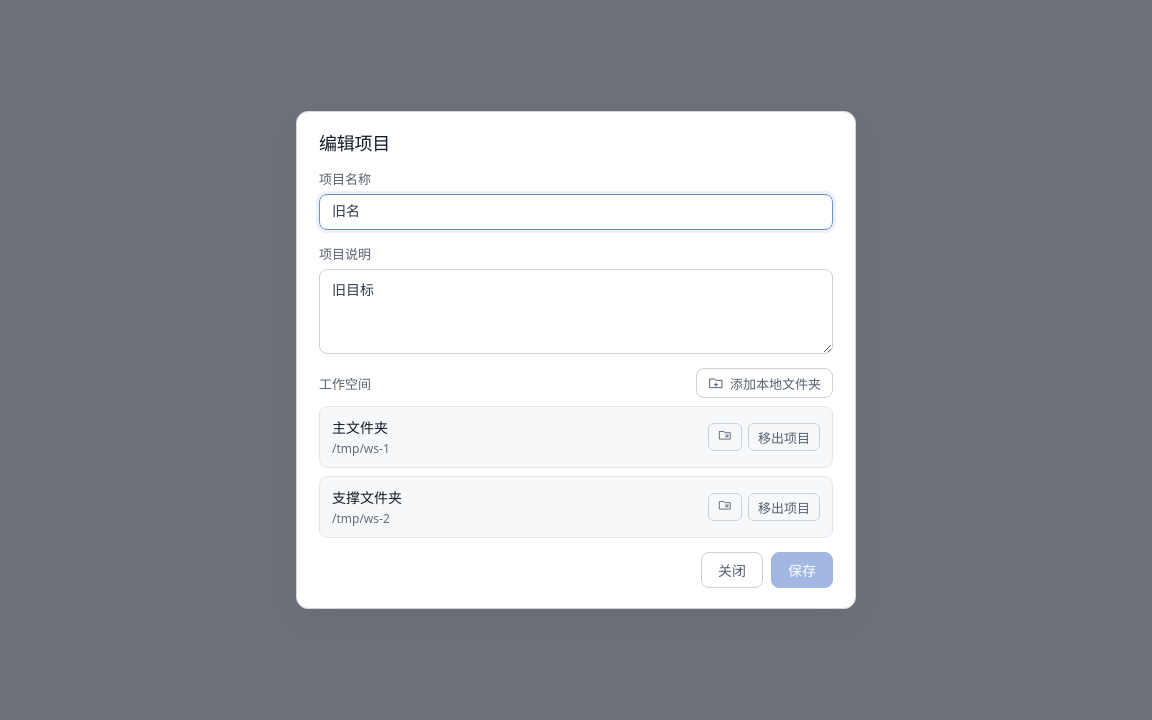
Test: 项目编辑 › 修订冲突时给出可操作的说明，而不是抛出原始错误码
Replace the text in the field labelled "项目名称" with "新名" at (576, 212), box [319,194,833,230]
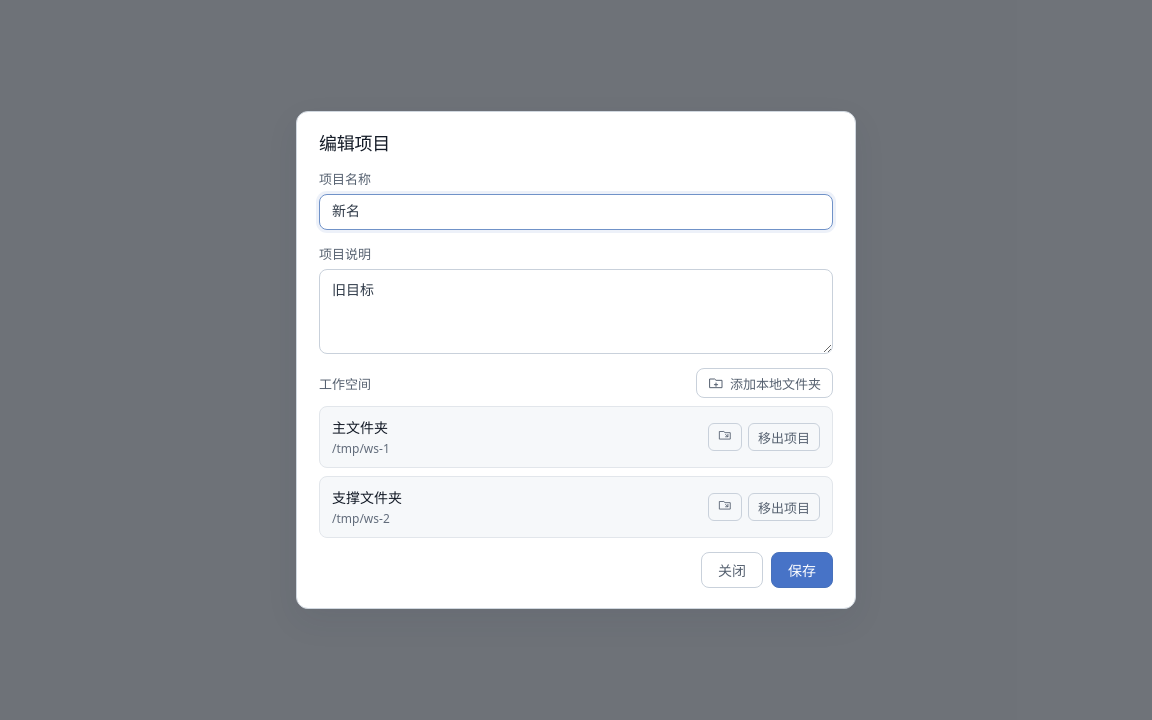
Click the button "保存" at (802, 570), box [771,552,833,588]
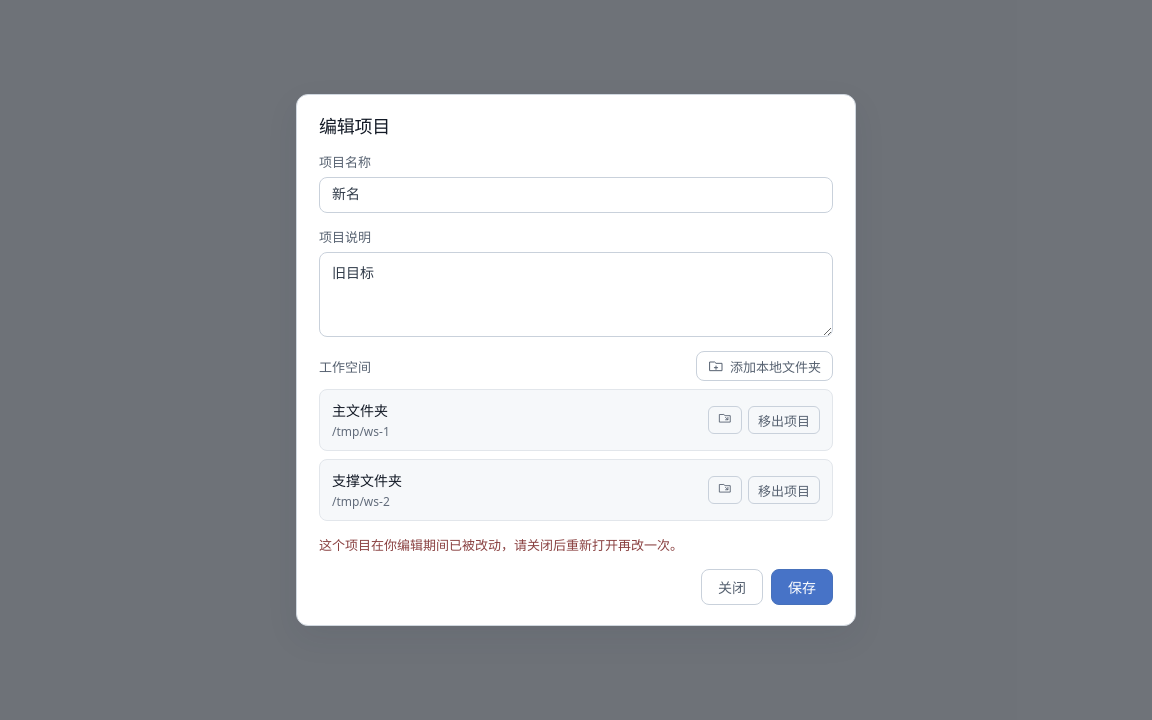
Expected: the message shows "已被改动", [319,536,683,554]
